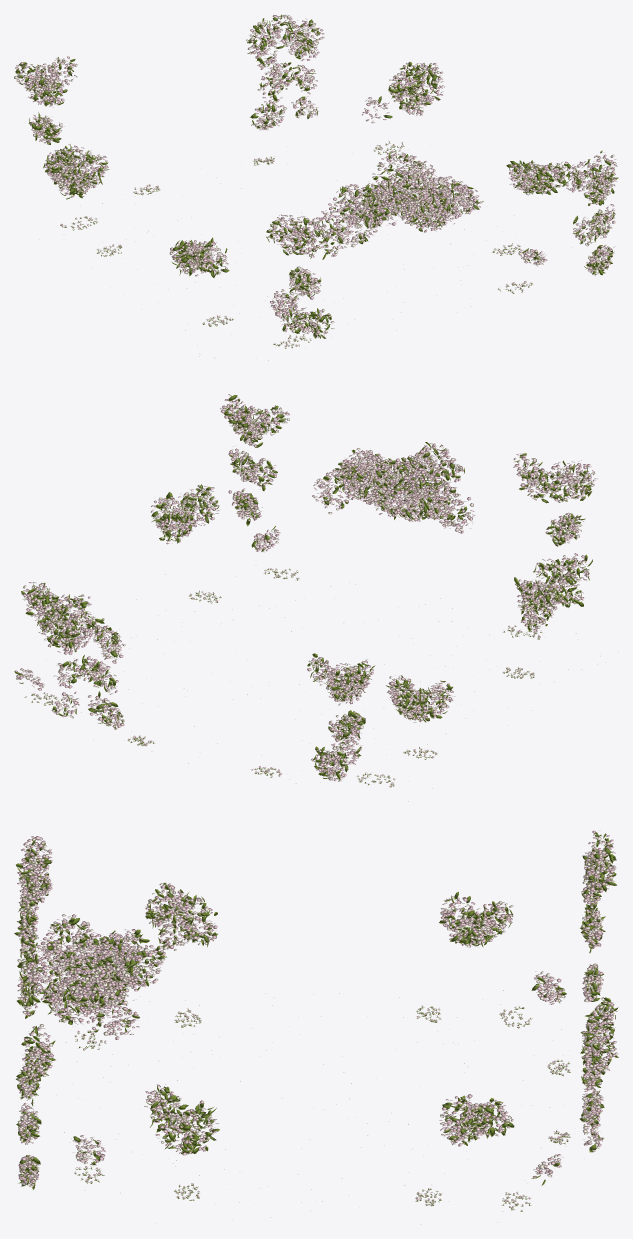
The model's file is R5_LayeredVegetation.fbx.
3 renders of one model, top to bottom at view 1: azimuth 30°, elevation 25°; view 2: azimuth 150°, elevation 25°; view 3: azimuth 270°, elevation 25°, orthographic. The views are drawn at different scales.
Parts seen in each view (by area): view 1: R5_LayeredVegetation; view 2: R5_LayeredVegetation; view 3: R5_LayeredVegetation.
Boxes of the visible parts, x1,y1,x2,y2 form: R5_LayeredVegetation: (14,14,618,360); R5_LayeredVegetation: (14,394,618,801); R5_LayeredVegetation: (14,830,618,1224).
Bounding box in the file's own units: 51.01 × 18.65 × 55.37.
